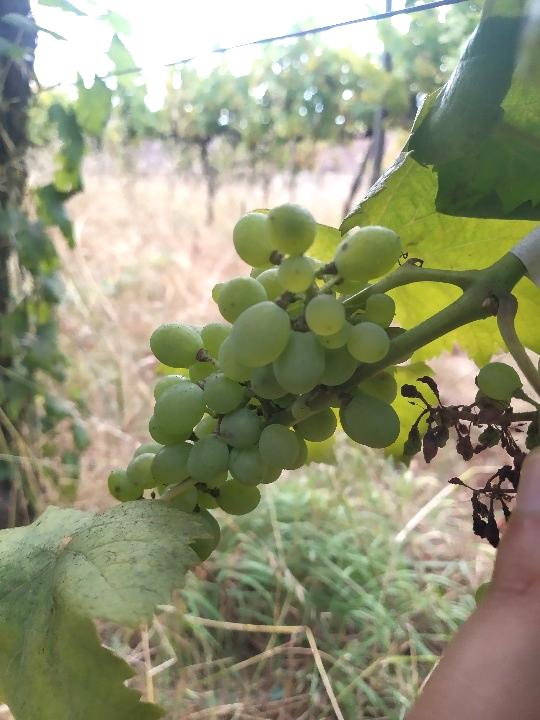grape: (105, 201, 405, 526)
